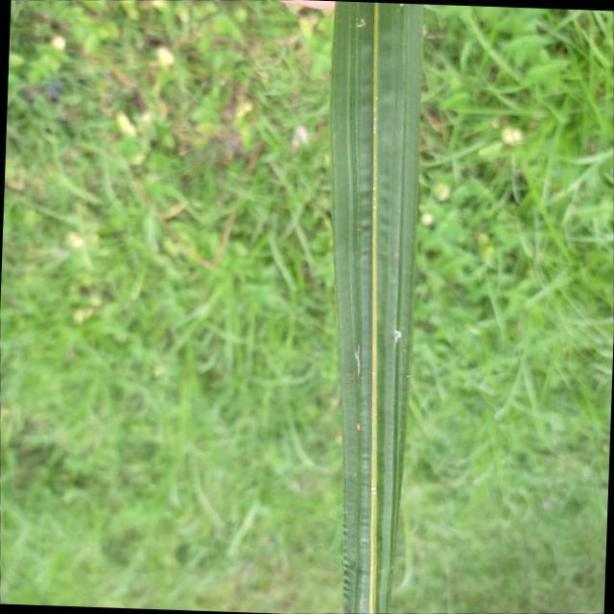Boron: (329, 0, 424, 614)
